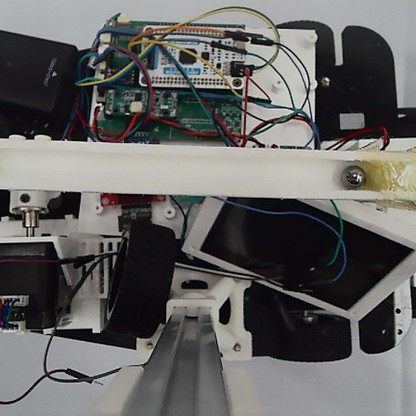ironball: (338, 161, 365, 190)
